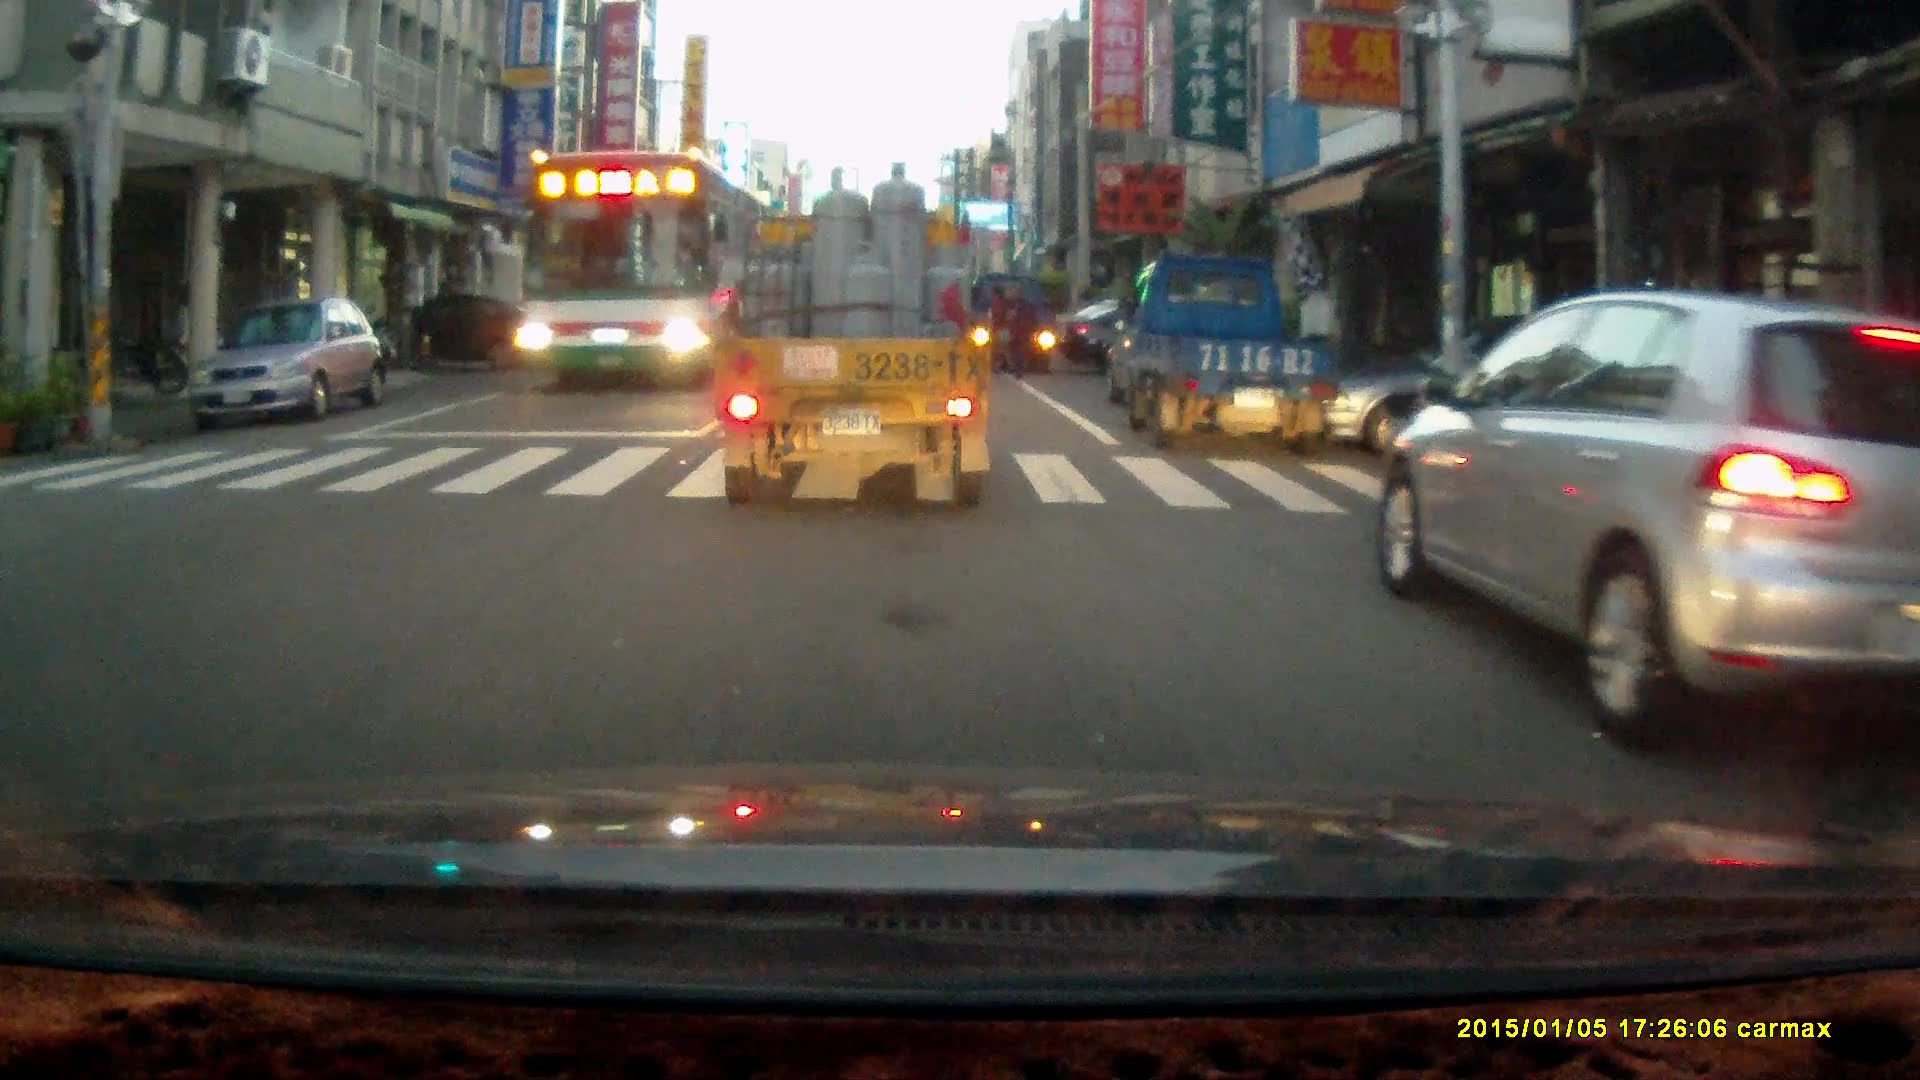pedestrian: (998, 279, 1040, 378), (981, 280, 1008, 374)
vehicle: (1375, 289, 1920, 761), (717, 156, 998, 510), (512, 146, 767, 390), (1107, 250, 1339, 453), (182, 289, 390, 426), (348, 286, 551, 368), (970, 269, 1065, 379)
